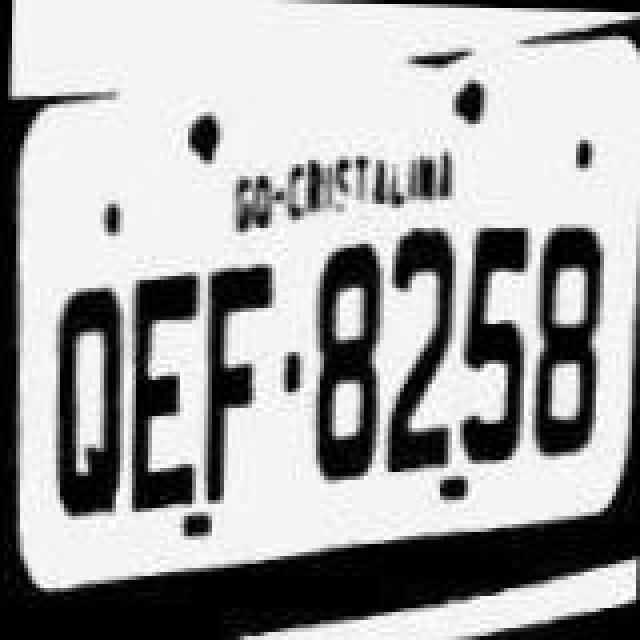2: (380, 220, 456, 476)
5: (462, 216, 534, 468)
8: (306, 236, 382, 484), (532, 218, 608, 462)
E: (122, 262, 206, 518)
F: (190, 258, 274, 502)
Q: (46, 284, 126, 524)
